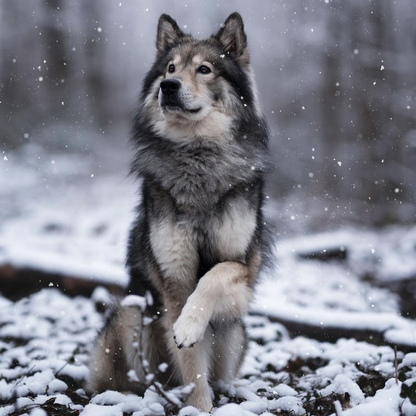husky: (82, 8, 275, 414)
